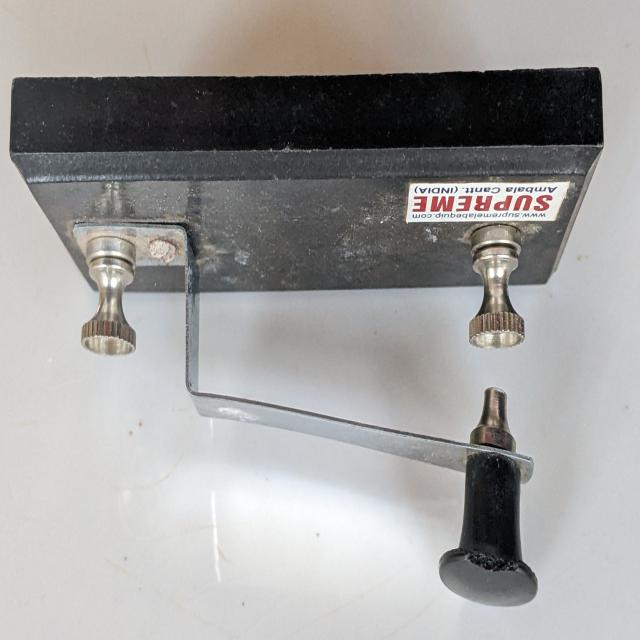Press Key: (6, 49, 616, 627)
